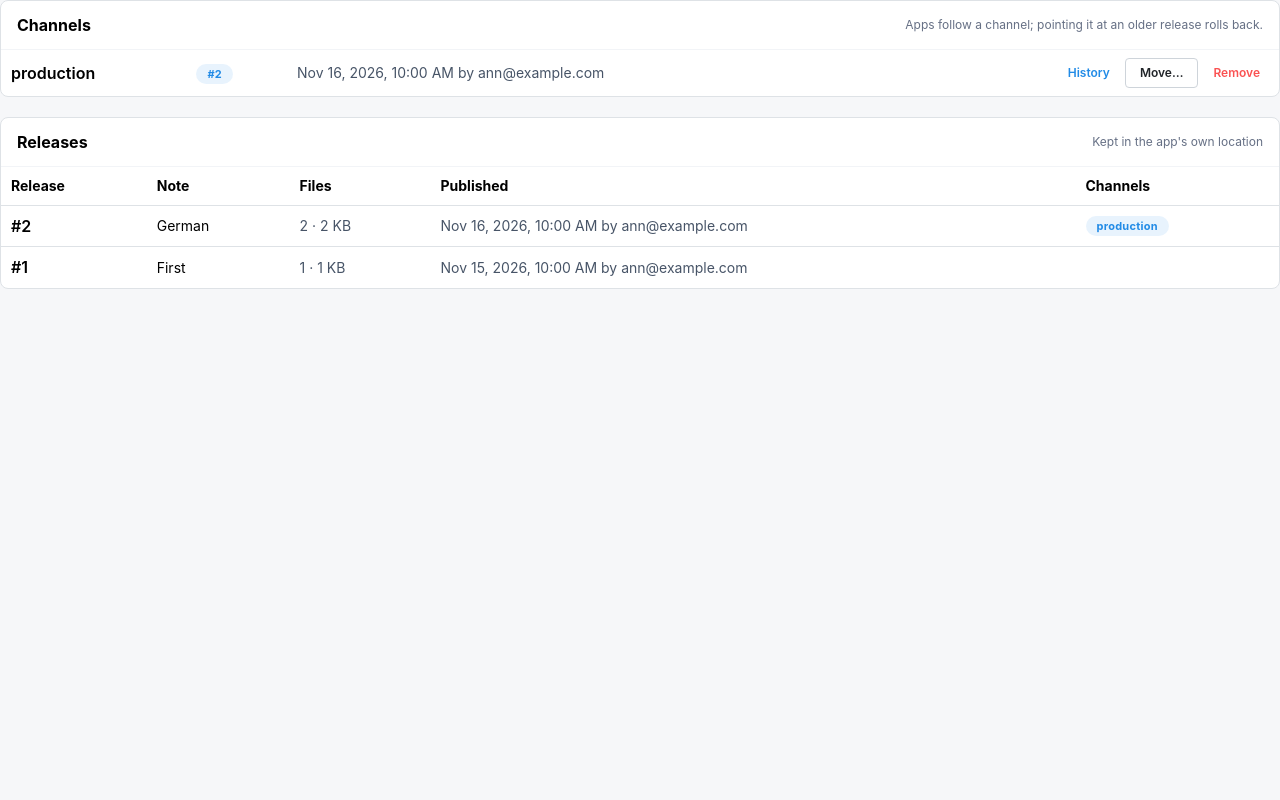
channels and releases; a release opens with its files and changes
Check: the 1st text "production" is shown, box [11,63,95,83]
Check: the 1st text "#2" is shown, box [207,65,222,83]
Click the row with test id "asset-release" that starts with "German": x=640, y=226 [1,205,1279,247]
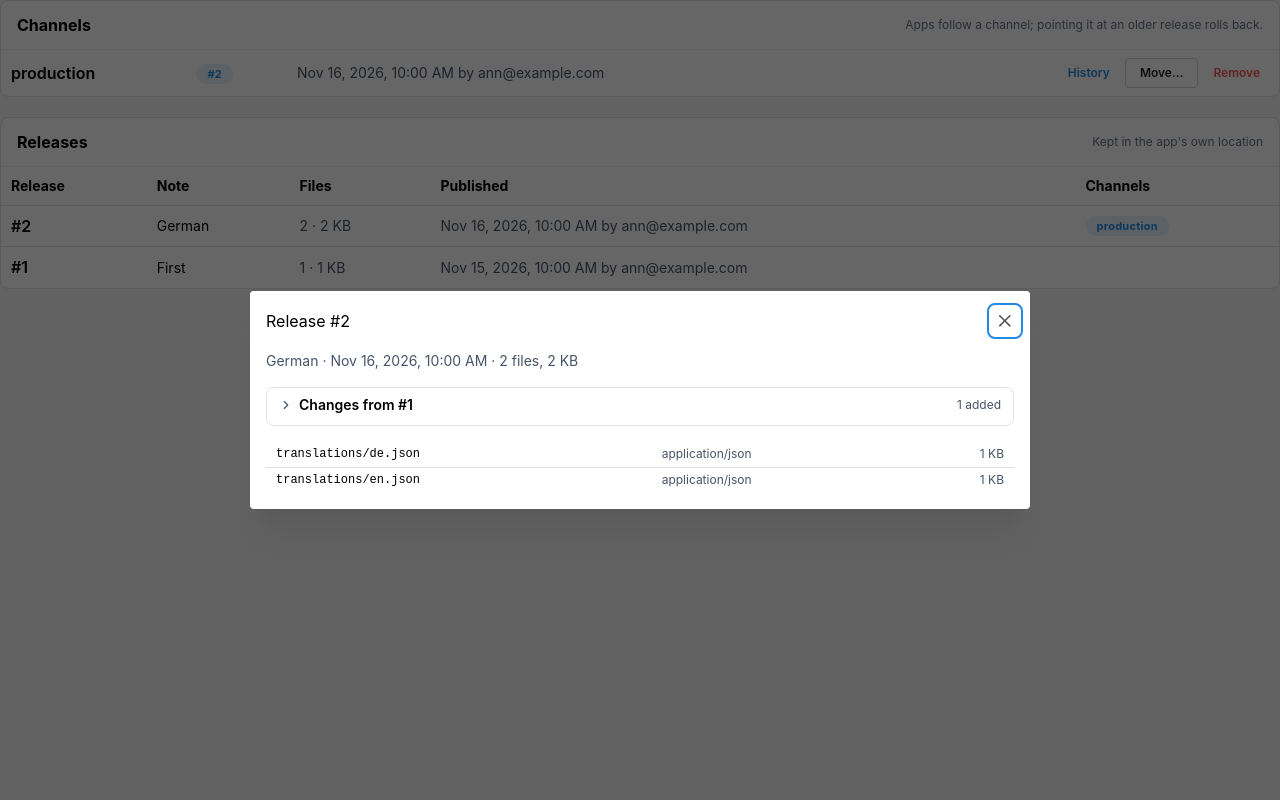
Check: the heading "Release #2" is shown, box [266,313,350,329]
Check: the table with test id "asset-files" shows "translations/en.json", box [276,473,420,487]
Click the button "Changes from #1 1 added": x=353, y=405 [279,395,1001,416]
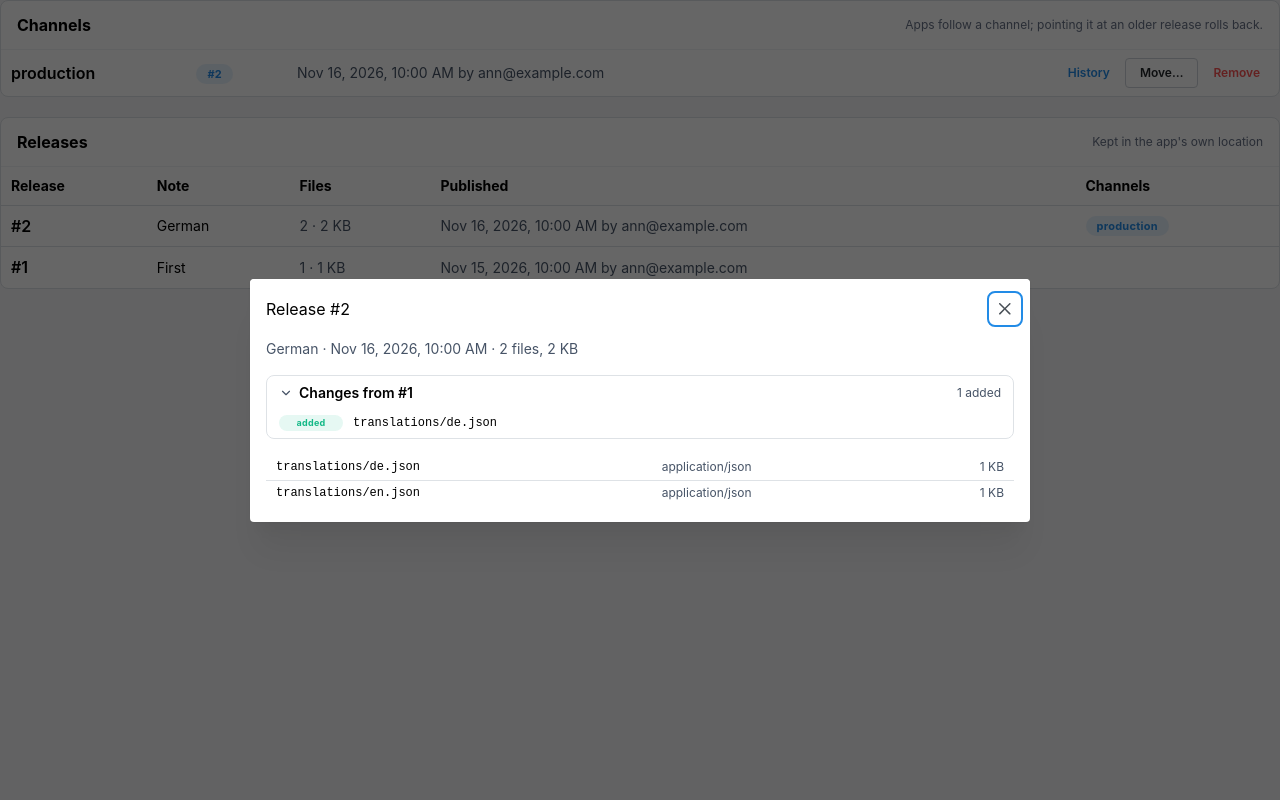
Check: the element with test id "asset-diff" shows "added", box [297,417,326,428]
Check: the button "Changes from #1 1 added" is expanded, box [279,383,1001,403]
